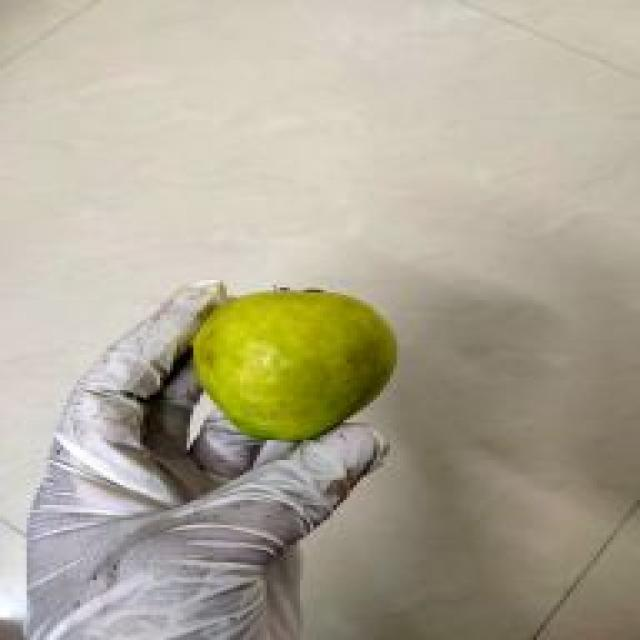Good_Guava: (190, 290, 400, 445)
